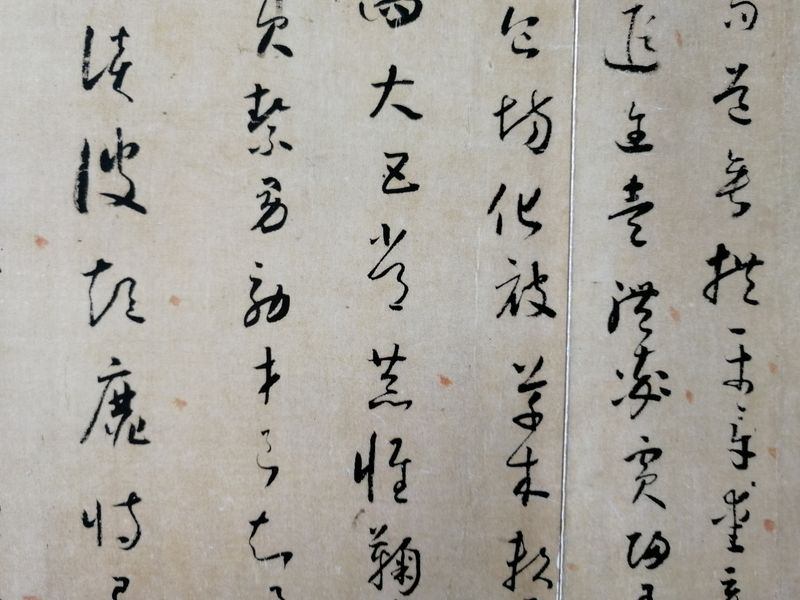zi: (79, 353, 160, 448), (75, 128, 150, 217), (606, 345, 680, 422), (363, 518, 427, 599), (82, 257, 147, 331), (75, 489, 147, 555), (603, 1, 660, 81), (498, 523, 562, 594), (493, 87, 558, 156), (78, 25, 133, 103), (352, 430, 409, 504), (239, 79, 293, 157), (497, 253, 558, 322), (367, 218, 410, 314), (701, 243, 763, 309), (625, 430, 669, 512), (603, 274, 658, 339), (242, 259, 292, 330), (609, 170, 654, 248), (369, 63, 425, 124), (366, 346, 415, 413), (511, 353, 551, 434), (245, 506, 293, 573), (711, 148, 754, 216), (491, 182, 544, 236), (621, 523, 676, 574), (499, 1, 545, 61), (711, 61, 753, 126), (714, 491, 752, 557), (506, 449, 550, 505), (252, 1, 291, 63), (719, 328, 754, 396), (251, 170, 289, 231), (617, 100, 653, 160), (726, 409, 759, 473), (379, 151, 422, 200), (247, 426, 281, 484), (361, 1, 420, 33), (251, 344, 280, 404), (722, 1, 763, 35), (106, 567, 141, 600), (719, 564, 741, 600)
